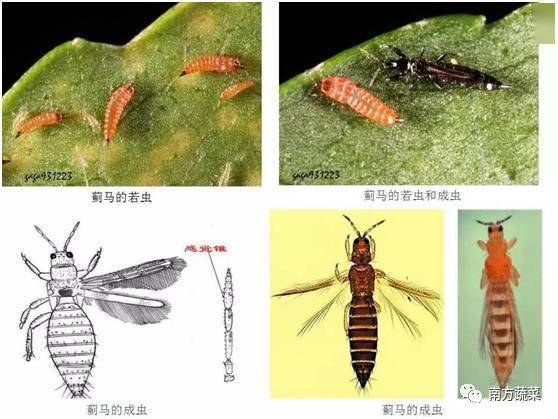Phlaeothripidae: (14, 212, 188, 399), (275, 216, 445, 396), (365, 42, 516, 105), (476, 214, 524, 403)
